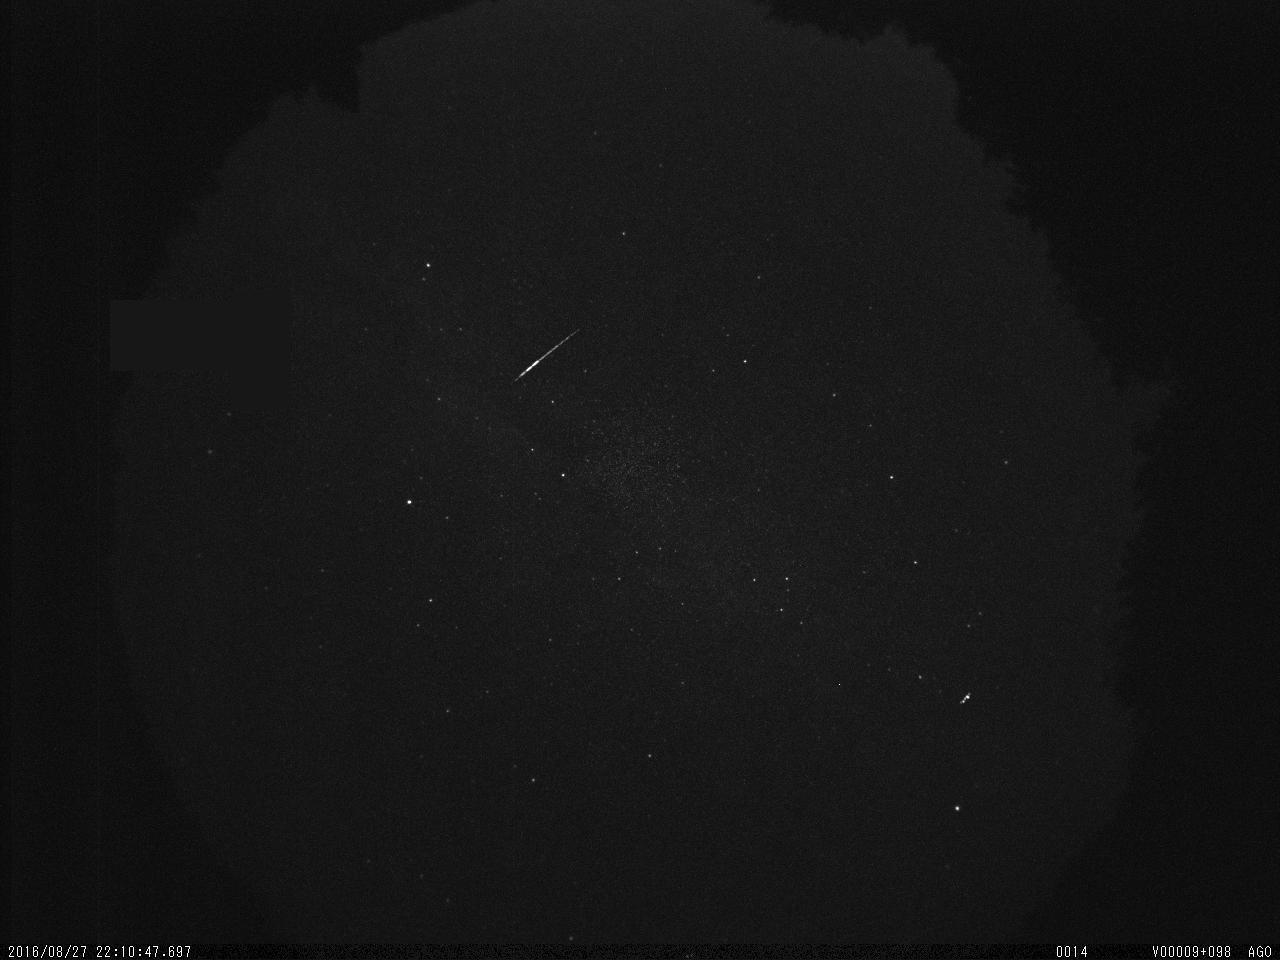meteor: (503, 320, 587, 394)
